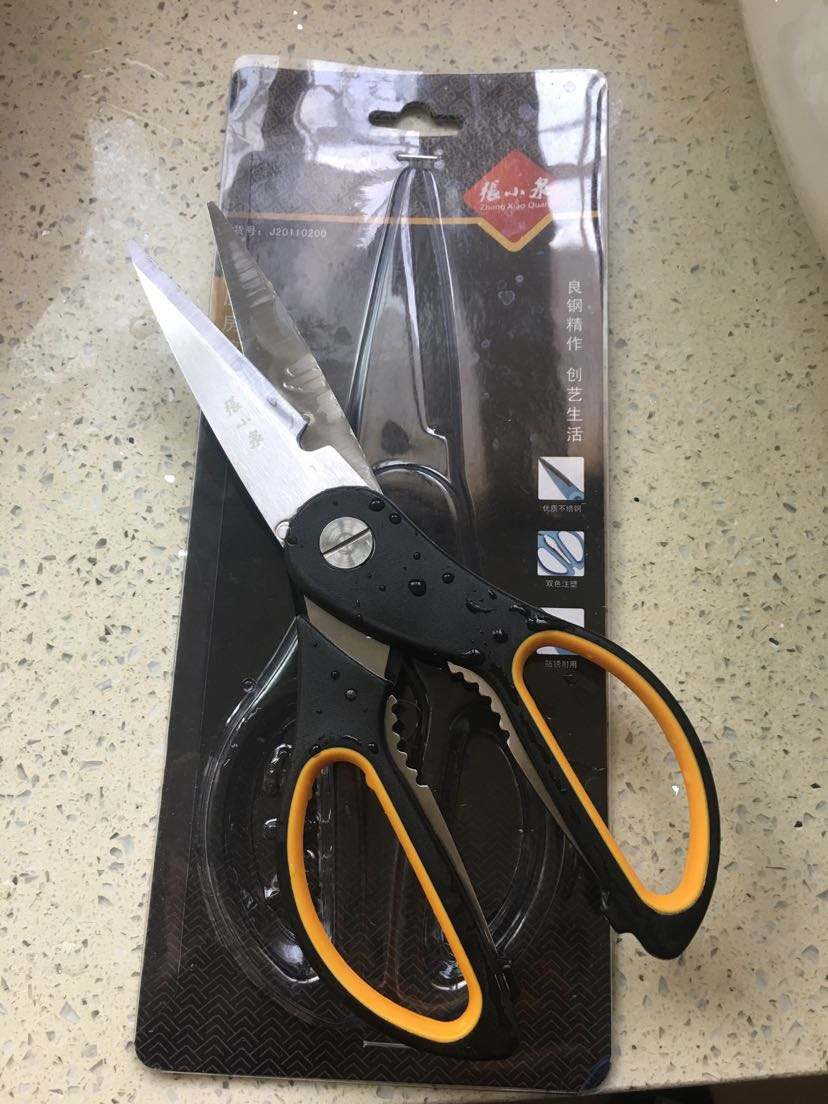scissor: (126, 198, 724, 1068)
